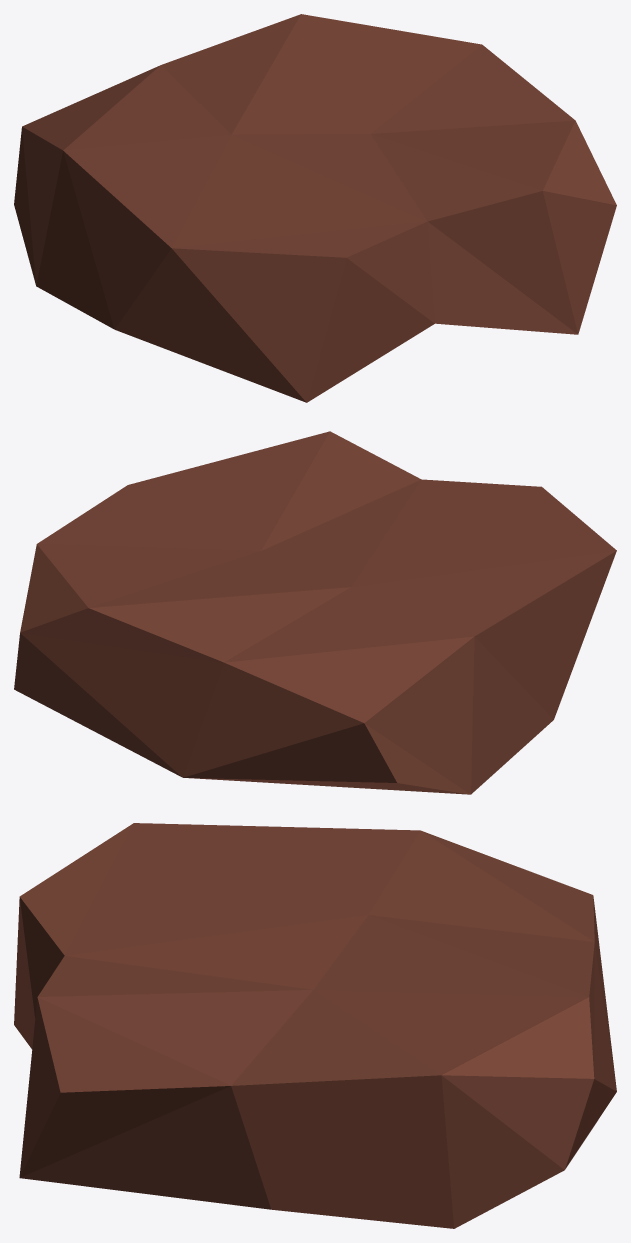
The model's file is flying-platform.dae.
The picture shows the model from 3 angles, top to bottom: view 1: azimuth 30°, elevation 25°; view 2: azimuth 150°, elevation 25°; view 3: azimuth 270°, elevation 25°; orthographic projection. The views are drawn at different scales.
Parts seen in each view (by area): view 1: Cube; view 2: Cube; view 3: Cube.
Part boxes in pixels (x1,y1,x2,y2): Cube: (14, 14, 616, 402); Cube: (14, 431, 616, 794); Cube: (14, 823, 616, 1228).
Size of the model in its own units: 1.92 by 1.97 by 0.6258.
